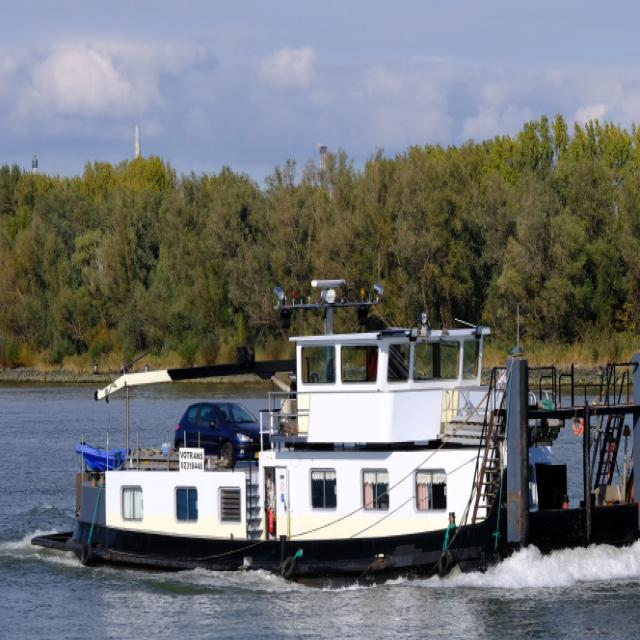tugboat: (29, 272, 640, 597)
